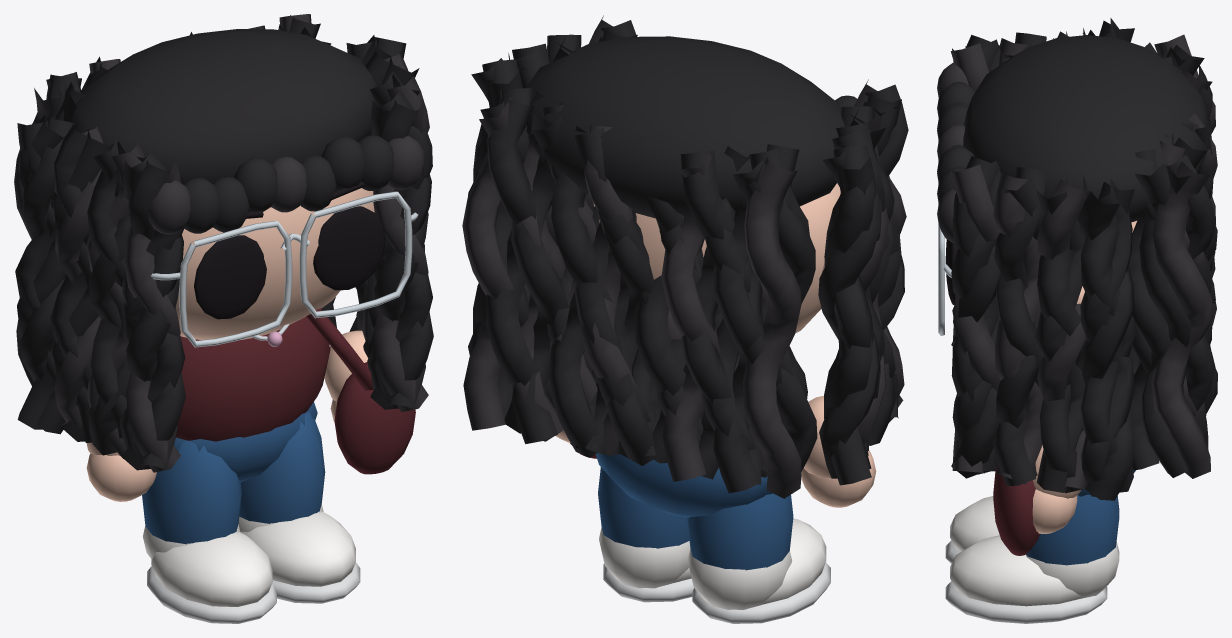
File: Maryane.glb
3 views of the same model, side by side, from view 1: azimuth 30°, elevation 25°; view 2: azimuth 150°, elevation 25°; view 3: azimuth 270°, elevation 25° (orthographic). The views are drawn at different scales.
Visible parts, largest first — view 1: Topo do cabelo, Corpo / blusa, Rosto inteiro, Perna -1 — peça animável, Bota -1, Bota 1, Perna 1 — peça animável, Bolsa bordô, Cacho lateral -1 0, Olho -1, Olho 1, Cacho lateral -1 11 (+36 smaller); view 2: Topo do cabelo, Cacho nas costas 0, Cacho nas costas 32, Cacho nas costas 24, Cacho nas costas 35, Cacho nas costas 10, Cacho nas costas 29, Cacho nas costas 8, Cacho nas costas 4, Perna -1 — peça animável, Cacho lateral -1 11, Quadril / jeans (+38 smaller); view 3: Topo do cabelo, Cacho nas costas 35, Bota 1, Cacho lateral 1 11, Cacho lateral 1 3, Cacho lateral 1 7, Cacho lateral 1 1, Cacho lateral 1 2, Cacho nas costas 33, Cacho lateral 1 10, Cacho nas costas 34, Cacho lateral 1 5 (+31 smaller).
Boxes of the visible parts, x1,y1,x2,y2 form: Topo do cabelo: (69, 29, 379, 184); Corpo / blusa: (176, 316, 330, 441); Rosto inteiro: (175, 188, 374, 339); Perna -1 — peça animável: (142, 440, 241, 544); Bota -1: (151, 532, 272, 606); Bota 1: (240, 511, 355, 586); Perna 1 — peça animável: (239, 411, 325, 523); Bolsa bordô: (334, 362, 415, 474); Cacho lateral -1 0: (124, 160, 181, 472); Olho -1: (194, 235, 266, 319); Olho 1: (313, 206, 385, 290); Cacho lateral -1 11: (20, 117, 76, 425); Topo do cabelo: (526, 36, 845, 218); Cacho nas costas 0: (743, 156, 801, 498); Cacho nas costas 32: (485, 96, 538, 433); Cacho nas costas 24: (548, 126, 599, 457); Cacho nas costas 35: (462, 102, 513, 430); Cacho nas costas 10: (661, 152, 720, 481); Cacho nas costas 29: (511, 114, 568, 444); Cacho nas costas 8: (680, 150, 734, 479); Cacho nas costas 4: (713, 162, 765, 493); Perna -1 — peça animável: (687, 493, 793, 570); Cacho lateral -1 11: (818, 144, 880, 478); Quadril / jeans: (596, 452, 772, 517); Topo do cabelo: (963, 35, 1210, 222); Cacho nas costas 35: (1151, 161, 1213, 478); Bota 1: (950, 535, 1082, 606); Cacho lateral 1 11: (1078, 191, 1134, 500); Cacho lateral 1 3: (1080, 182, 1136, 492); Cacho lateral 1 7: (1080, 179, 1134, 496); Cacho lateral 1 1: (993, 178, 1043, 485); Cacho lateral 1 2: (1037, 176, 1087, 493); Cacho nas costas 33: (1128, 164, 1170, 470); Cacho lateral 1 10: (1037, 179, 1089, 489); Cacho nas costas 34: (1139, 165, 1191, 477); Cacho lateral 1 5: (993, 173, 1042, 484).
Bounding box in the file's own units: 1.97 × 2.58 × 1.25.
